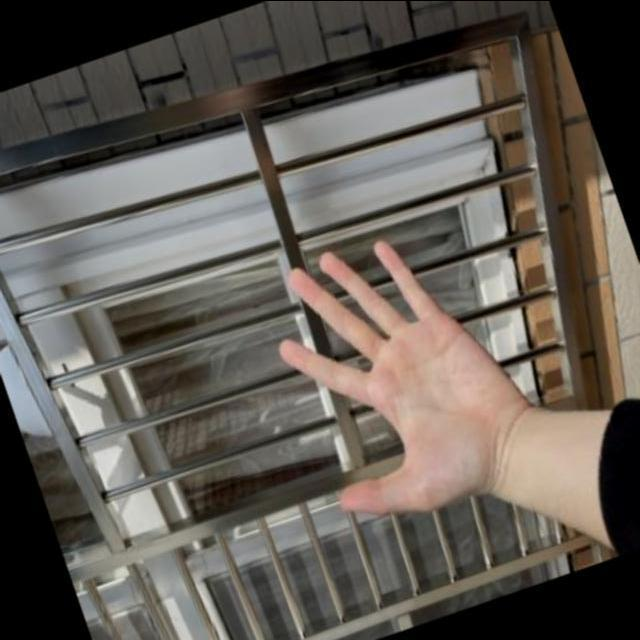hand: (236, 181, 569, 560)
